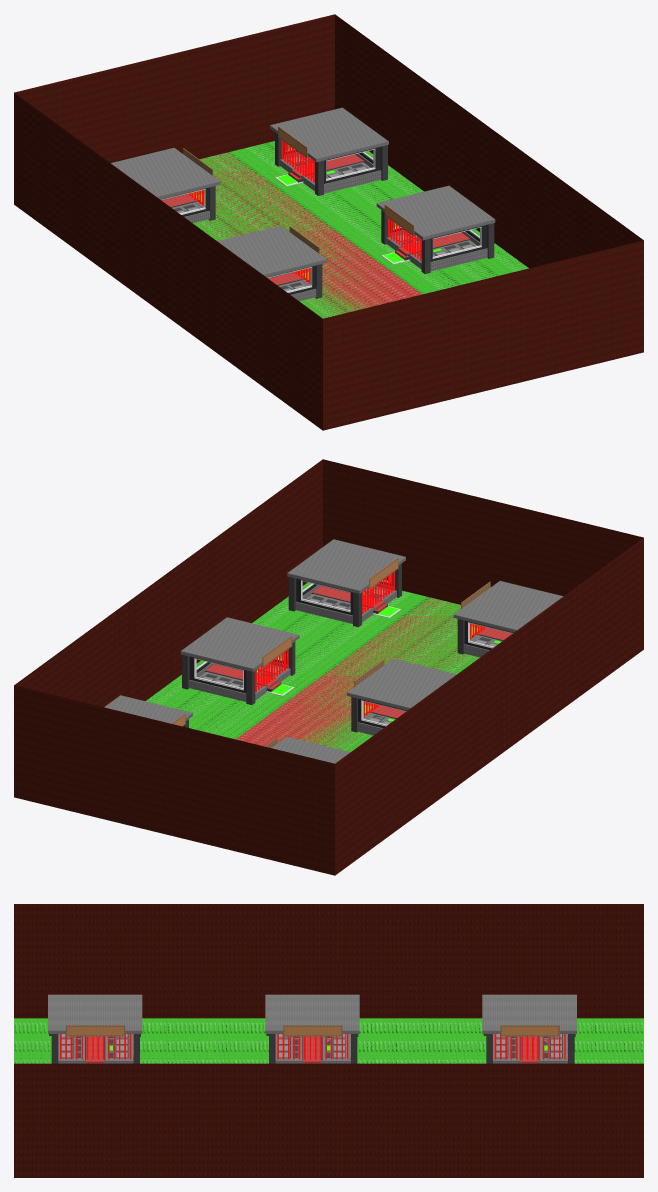
File: steal.glb
The picture shows the model from 3 angles, top to bottom: view 1: azimuth 30°, elevation 25°; view 2: azimuth 150°, elevation 25°; view 3: azimuth 270°, elevation 25°; orthographic projection.
Parts seen in each view (by area): view 1: object 1, Base_Material.013_0, Base.001_Material.013_0, Base_Material.001_0, Base_Material.015_0, Base_Material.011_0, Base_Material.005_0, Base_Material.016_0, Base_Material.006_0; view 2: object 1, Base_Material.013_0, Base.001_Material.013_0, Base_Material.001_0, Base_Material.015_0, Base_Material.011_0, Base_Material.005_0, Base_Material.016_0, Base_Material.006_0; view 3: object 1, Base.001_Material.013_0, Base.001_Material.011_0, Base.001_Material.014_0, Base.001_Material.022_0, Base.001_Material.010_0, Base.001_Material.015_0, Base.001_Material.016_0, Base.001_Material.018_0, Base.001_Material.001_0, Base.001_Material.023_0.
Boxes of the visible parts, x1,y1,x2,y2 form: object 1: (14,14,643,430); Base_Material.013_0: (270,107,495,240); Base.001_Material.013_0: (111,148,326,277); Base_Material.001_0: (280,152,487,271); Base_Material.015_0: (275,132,494,273); Base_Material.011_0: (281,140,421,260); Base_Material.005_0: (284,142,486,261); Base_Material.016_0: (289,154,469,258); Base_Material.006_0: (275,143,481,264); object 1: (14,459,643,875); Base_Material.013_0: (104,539,405,723); Base.001_Material.013_0: (271,581,563,763); Base_Material.001_0: (189,583,396,701); Base_Material.015_0: (182,563,401,727); Base_Material.011_0: (255,571,394,691); Base_Material.005_0: (189,573,392,693); Base_Material.016_0: (206,586,386,689); Base_Material.006_0: (194,575,400,696); object 1: (14,904,643,1177); Base.001_Material.013_0: (48,994,576,1033); Base.001_Material.011_0: (60,1034,565,1059); Base.001_Material.014_0: (58,1034,567,1059); Base.001_Material.022_0: (67,1027,558,1035); Base.001_Material.010_0: (61,1034,562,1058); Base.001_Material.015_0: (49,1034,575,1063); Base.001_Material.016_0: (86,1036,538,1063); Base.001_Material.018_0: (61,1034,561,1057); Base.001_Material.001_0: (58,1034,567,1063); Base.001_Material.023_0: (66,1025,559,1036).
Size of the model in its own units: 3 by 1 by 5.
17 materials, 9 textured.
